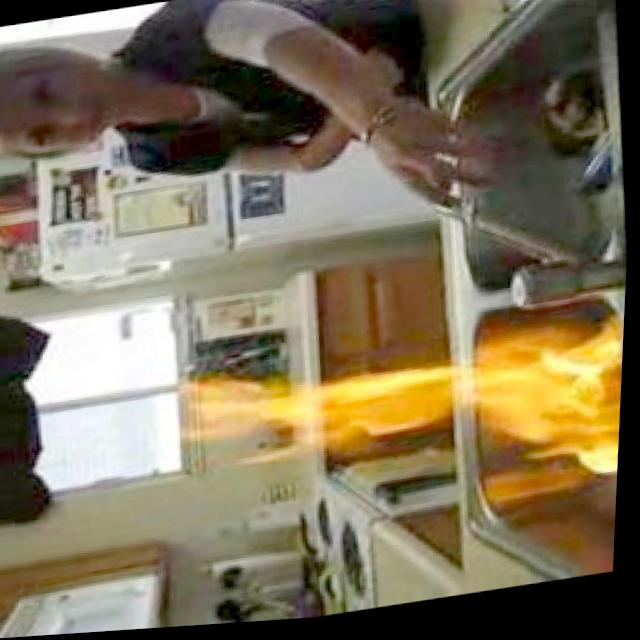helmet: (195, 319, 628, 533)
